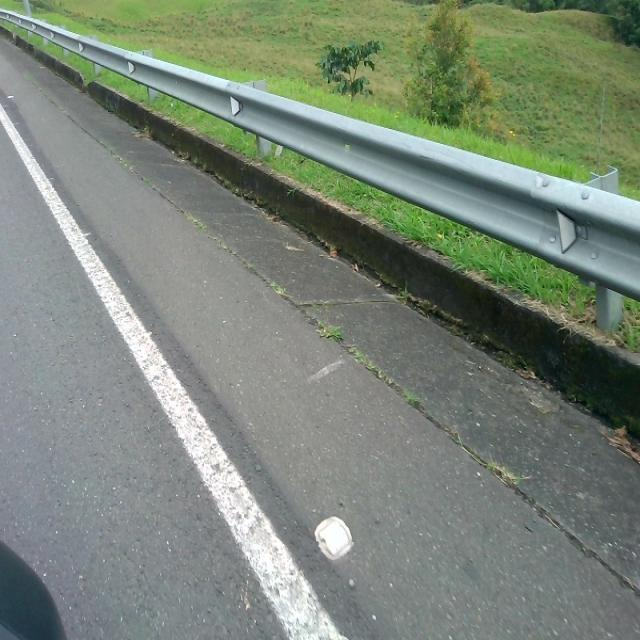DITCH: (1, 23, 638, 638), (2, 103, 638, 637)
